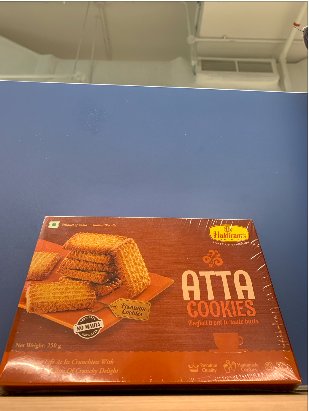Cookies_200-299g: (42, 215, 267, 365)
